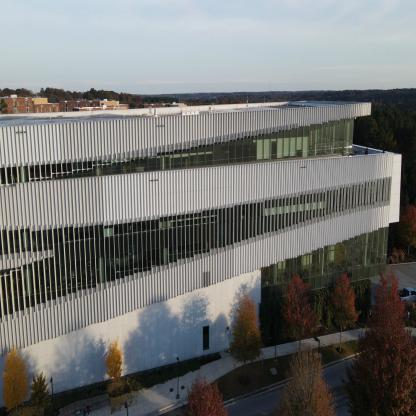Hunt Library: (0, 80, 412, 409)
